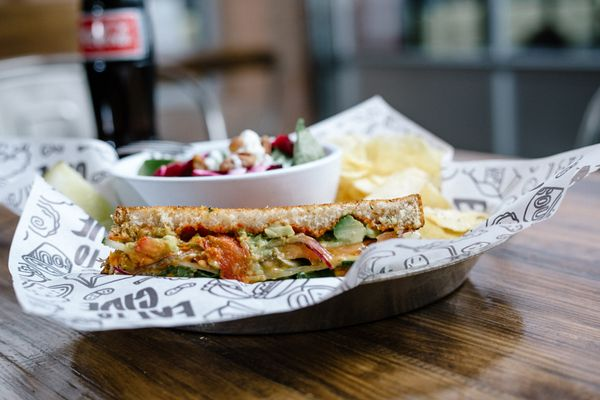soup: (100, 198, 433, 284)
sushi: (102, 126, 343, 209)
